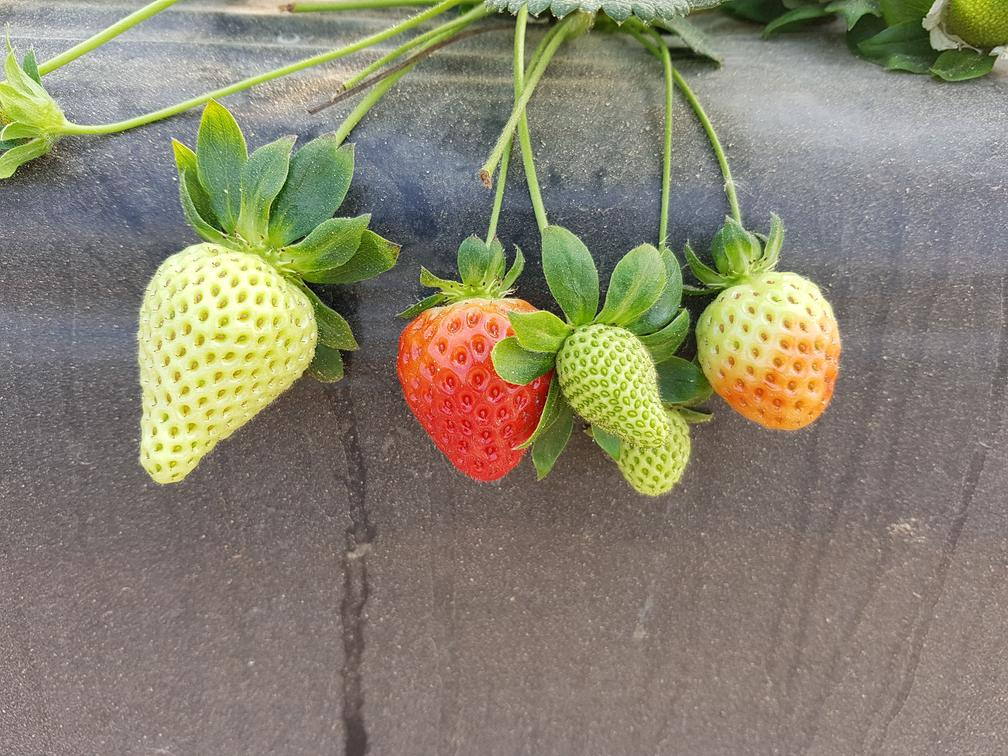Ripe: (400, 295, 559, 489)
Unripe: (124, 237, 325, 487), (693, 264, 852, 436), (562, 320, 678, 456), (621, 426, 695, 500)
